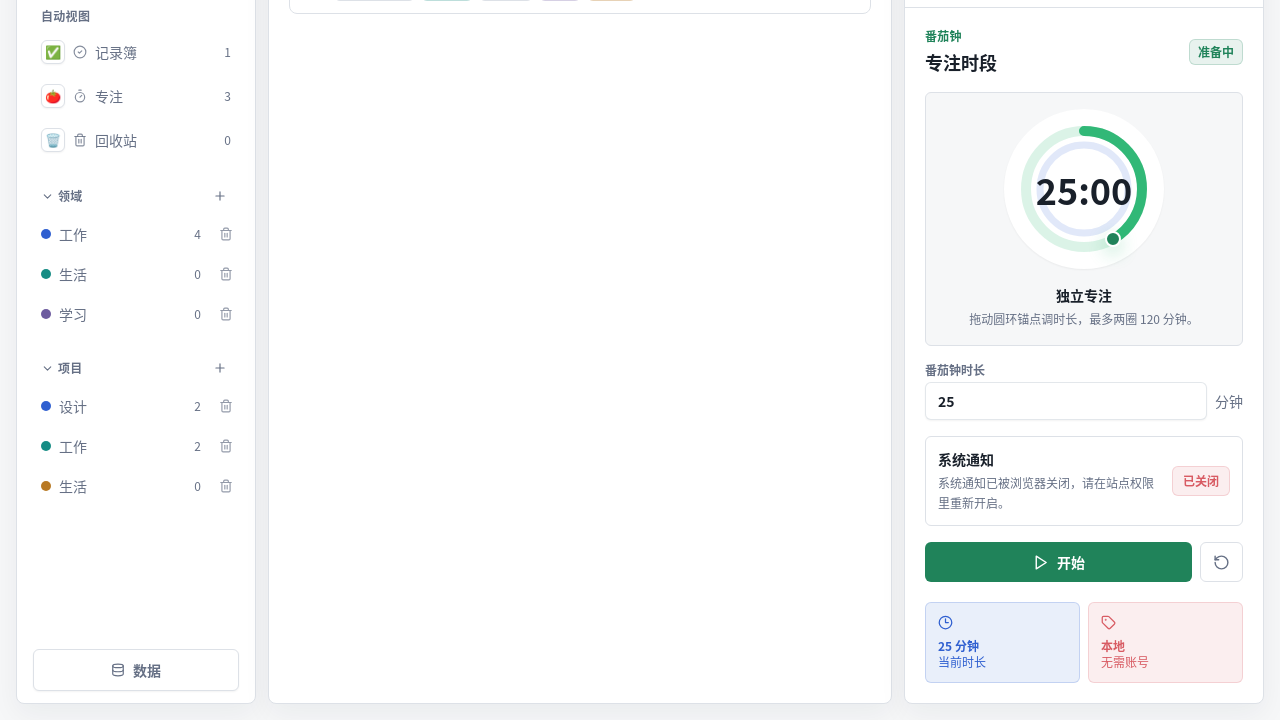
Test case: More Than Todo app › sets the pomodoro duration before starting focus
(page scrolled)
Replace the text in the number field labelled "番茄钟时长" with "15" at (1066, 401), box [925, 382, 1207, 420]
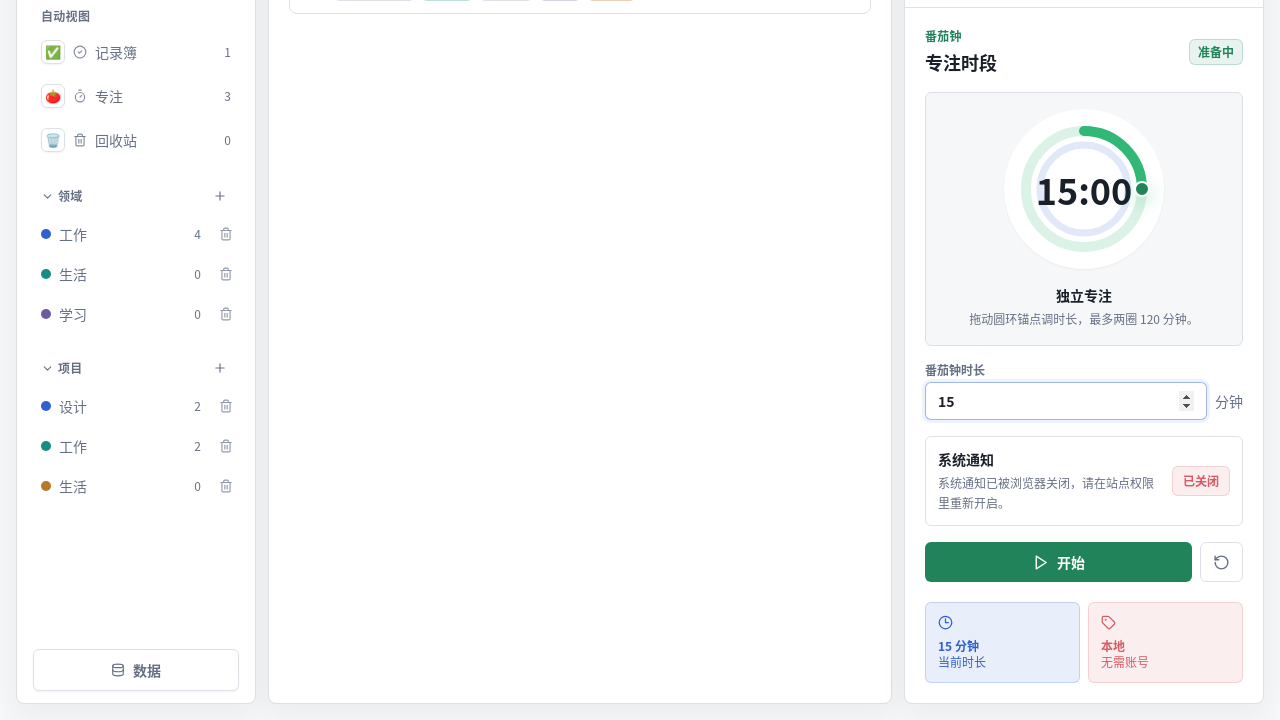
Now the text "15:00" is shown, box [1046, 171, 1122, 207]
